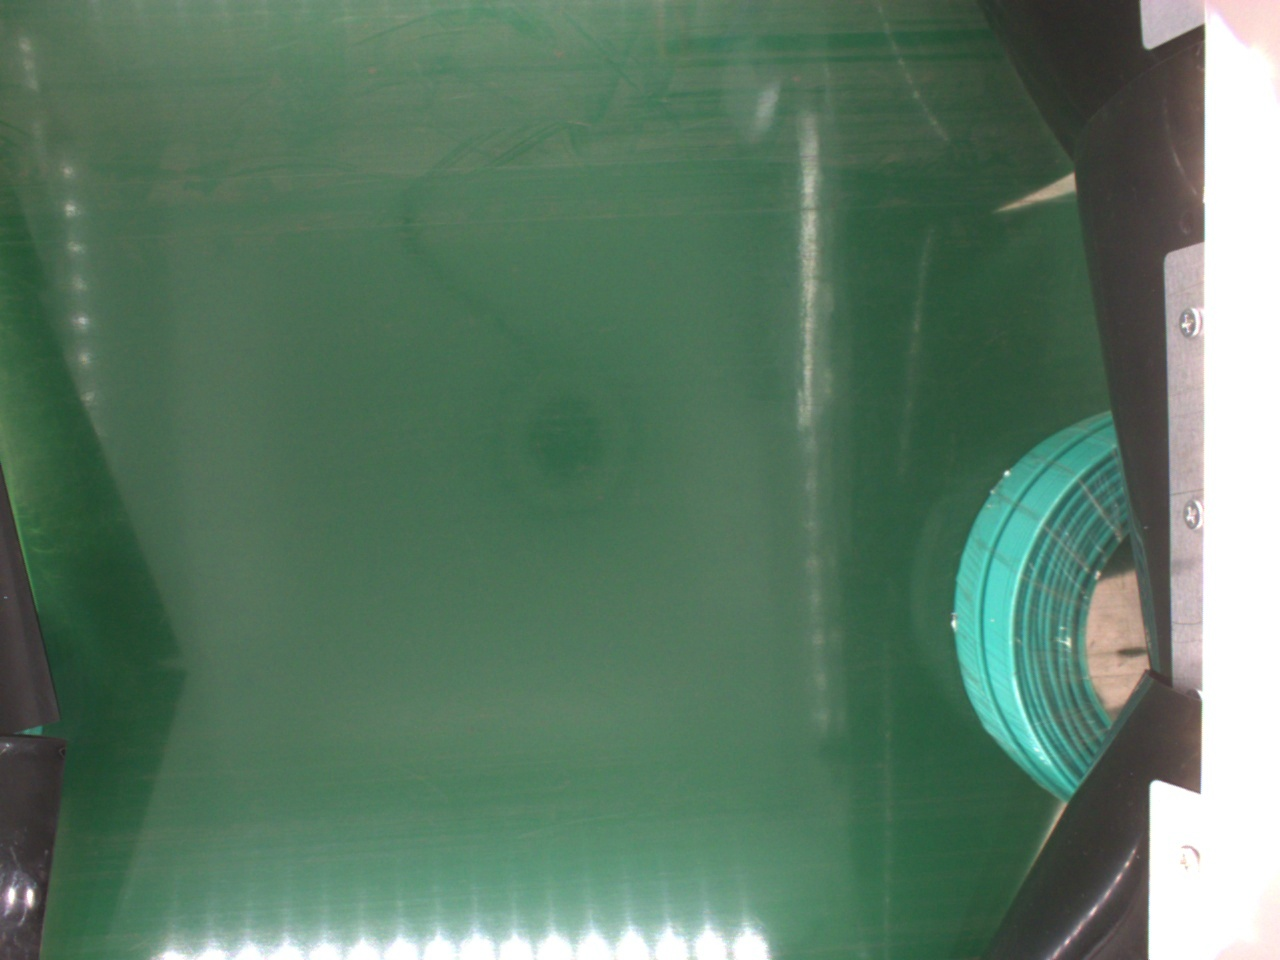green: (953, 409, 1151, 796)
